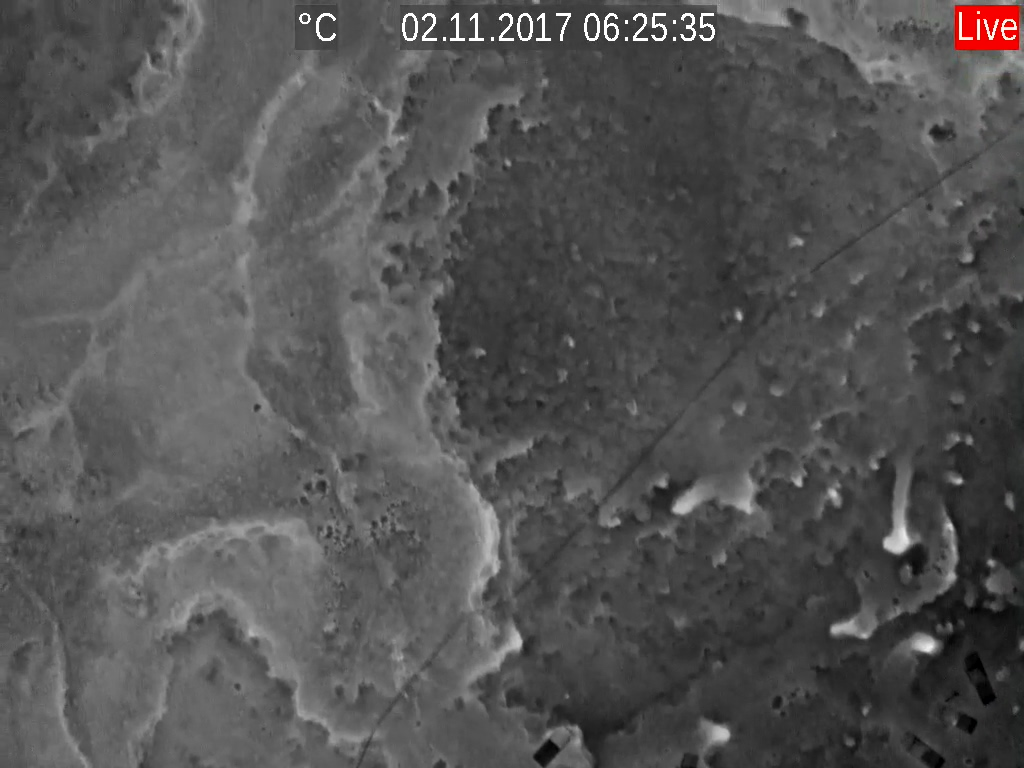warren: (885, 449, 913, 561), (663, 464, 713, 522), (828, 603, 875, 647), (903, 622, 945, 661), (699, 711, 733, 748), (778, 226, 809, 254), (942, 466, 968, 491)
